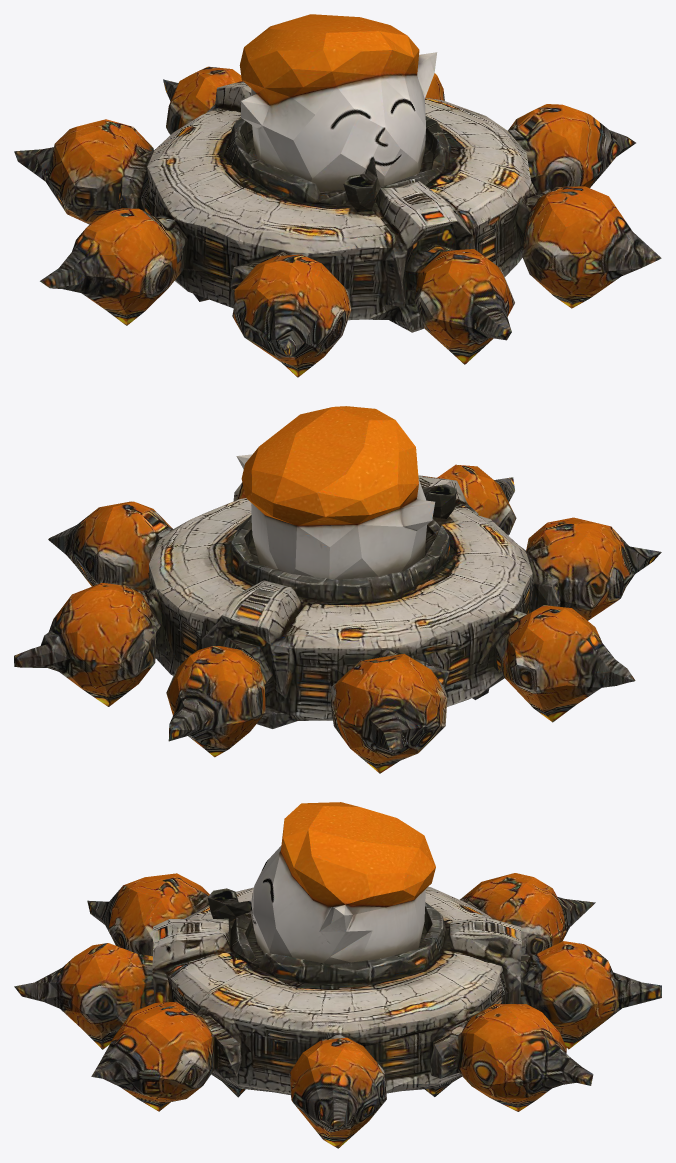
Rendered from からあげ円盤.glb.
The picture shows the model from 3 angles, top to bottom: view 1: azimuth 30°, elevation 25°; view 2: azimuth 150°, elevation 25°; view 3: azimuth 270°, elevation 25°; orthographic projection. The views are drawn at different scales.
Visible parts, largest first — view 1: Mesh; view 2: Mesh; view 3: Mesh.
Part boxes in pixels (box(x1,y1,x2,y2)): Mesh: box(14, 14, 661, 377); Mesh: box(14, 406, 661, 773); Mesh: box(14, 802, 661, 1148).
Size of the model in its own units: 1.73 by 0.7037 by 1.75.
1 material, 1 textured.
